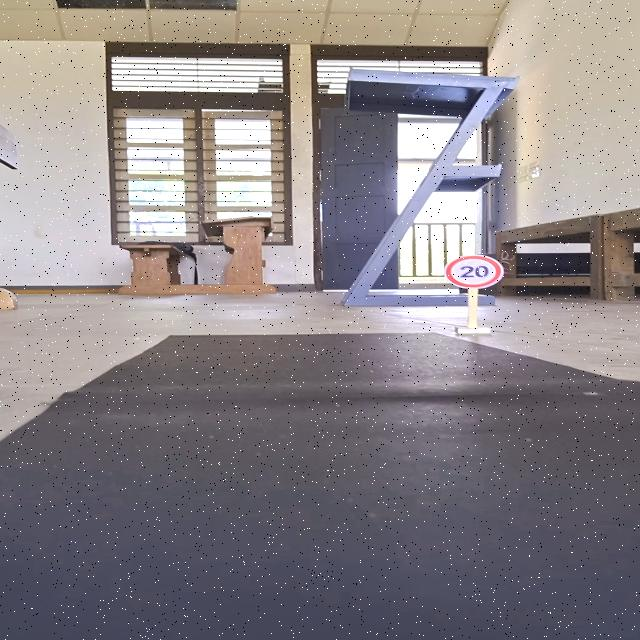Speed20: (439, 253, 505, 291)
